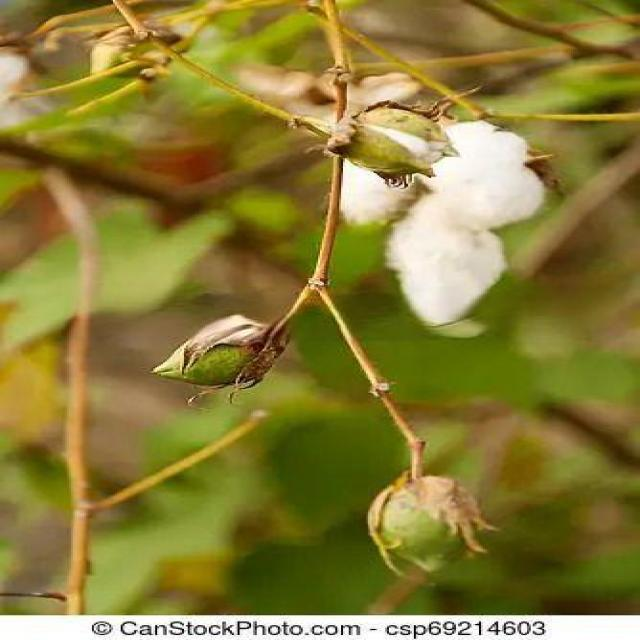Leaf: (355, 96, 561, 337), (312, 99, 463, 189)
